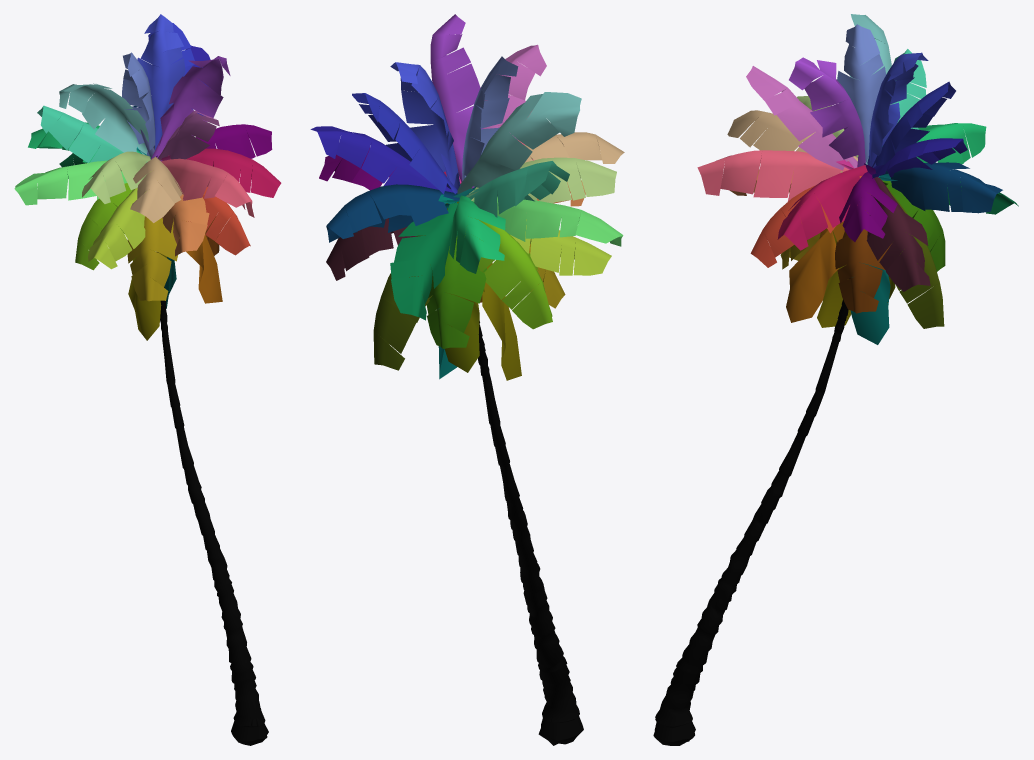
Rendered from SM_PalmCoconut_02.fbx.
3 views of the same model, side by side, from view 1: azimuth 30°, elevation 25°; view 2: azimuth 150°, elevation 25°; view 3: azimuth 270°, elevation 25° (orthographic). The views are drawn at different scales.
Parts seen in each view (by area): view 1: SM_PalmCoconut_02_LOD0; view 2: SM_PalmCoconut_02_LOD0; view 3: SM_PalmCoconut_02_LOD0.
Part boxes in pixels (x1,y1,x2,y2): SM_PalmCoconut_02_LOD0: [14, 14, 281, 745]; SM_PalmCoconut_02_LOD0: [310, 14, 624, 745]; SM_PalmCoconut_02_LOD0: [653, 14, 1018, 745].
Bounding box in the file's own units: 738 × 843 × 1784.
